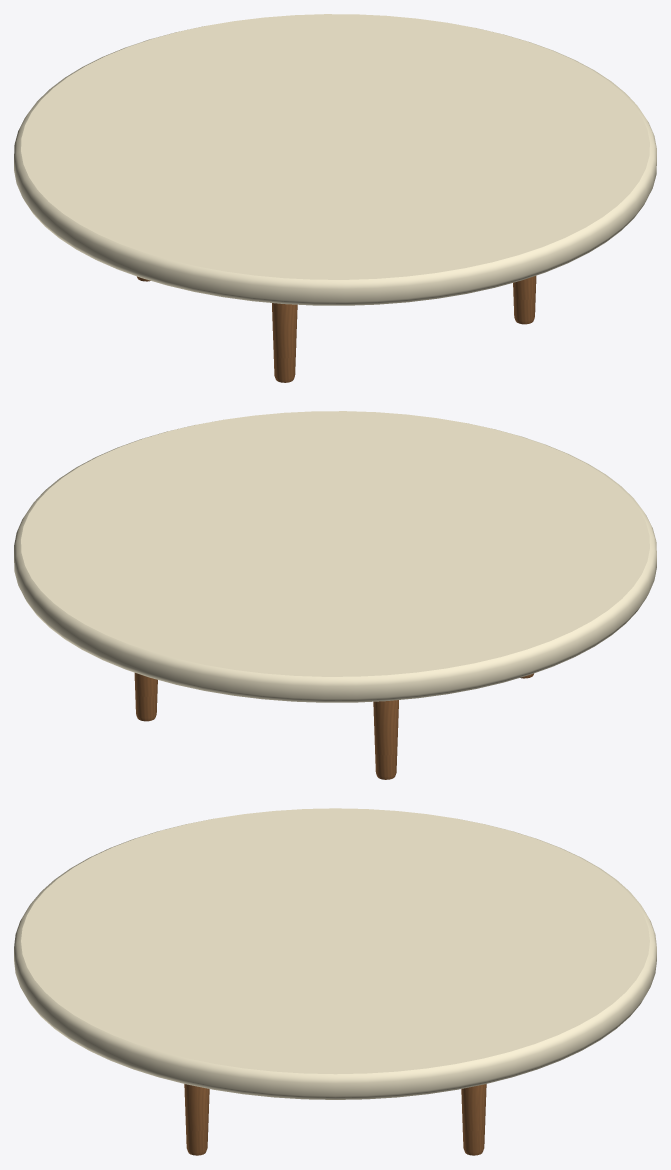
File: home-table.glb
3 views of the same model, one above another, from view 1: azimuth 30°, elevation 25°; view 2: azimuth 150°, elevation 25°; view 3: azimuth 270°, elevation 25° (orthographic).
Parts seen in each view (by area): view 1: home-table; view 2: home-table; view 3: home-table.
Part boxes in pixels (box(x1,y1,x2,y2)): home-table: box(14, 14, 656, 382); home-table: box(14, 411, 656, 779); home-table: box(14, 808, 656, 1155).
Bounding box in the file's own units: 4.6 × 1.2 × 4.6.
2 materials, 2 textured.
